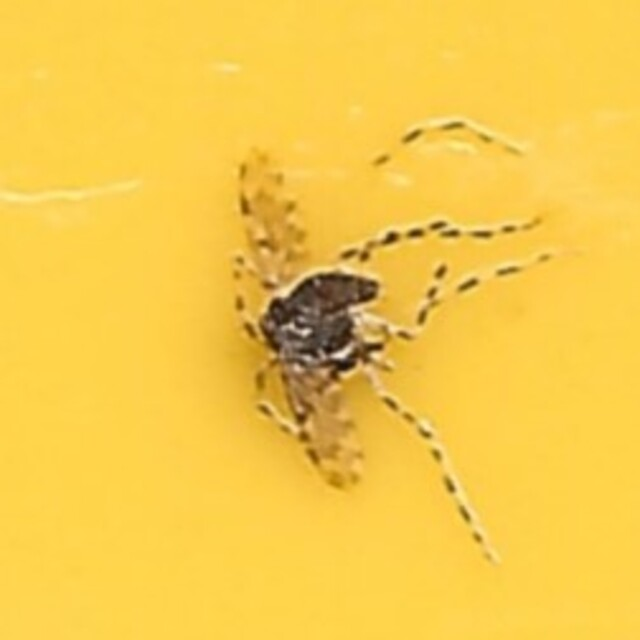Nematocera: (254, 254, 386, 386)
